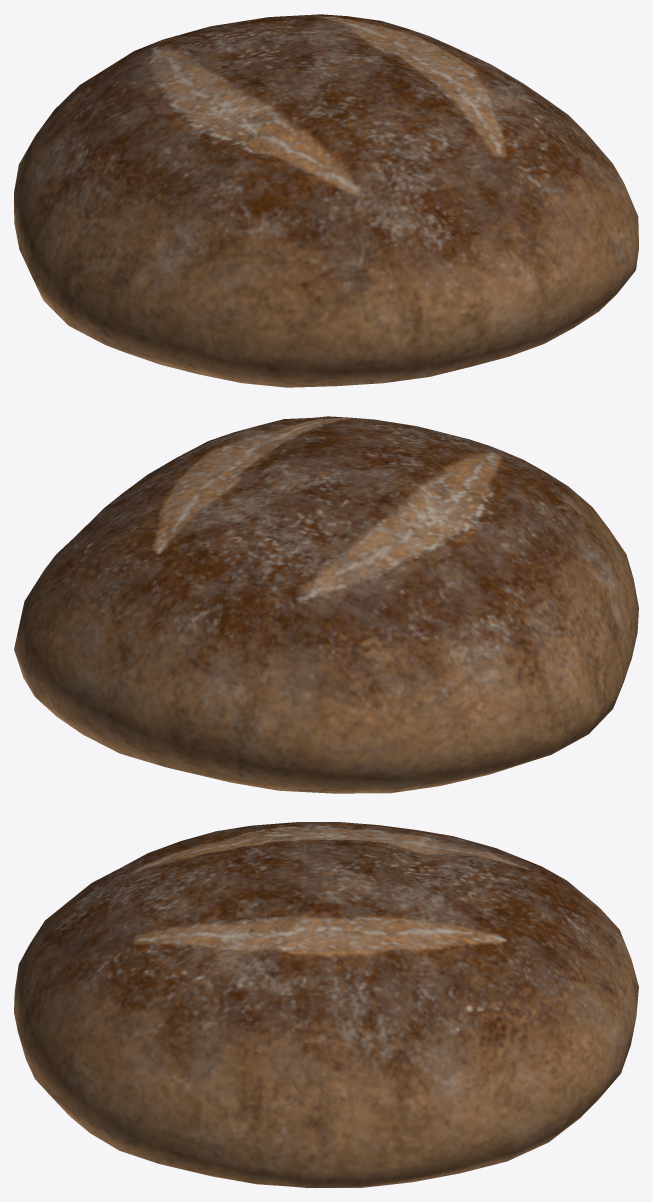
File: Bread_22_honeybread_a_mesh.obj
3 renders of one model, top to bottom at view 1: azimuth 30°, elevation 25°; view 2: azimuth 150°, elevation 25°; view 3: azimuth 270°, elevation 25°, orthographic.
Bounding box in the file's own units: 0.2598 × 0.0984 × 0.2674.
